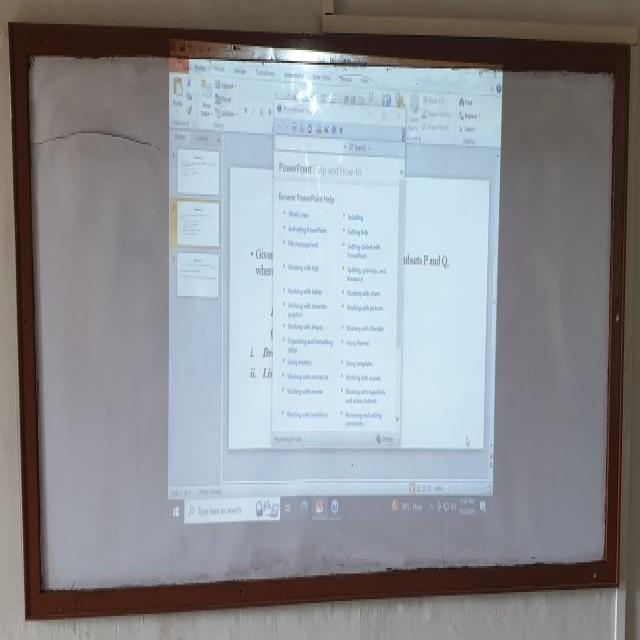Slide: (167, 36, 504, 541)
White-board: (19, 31, 622, 608)
